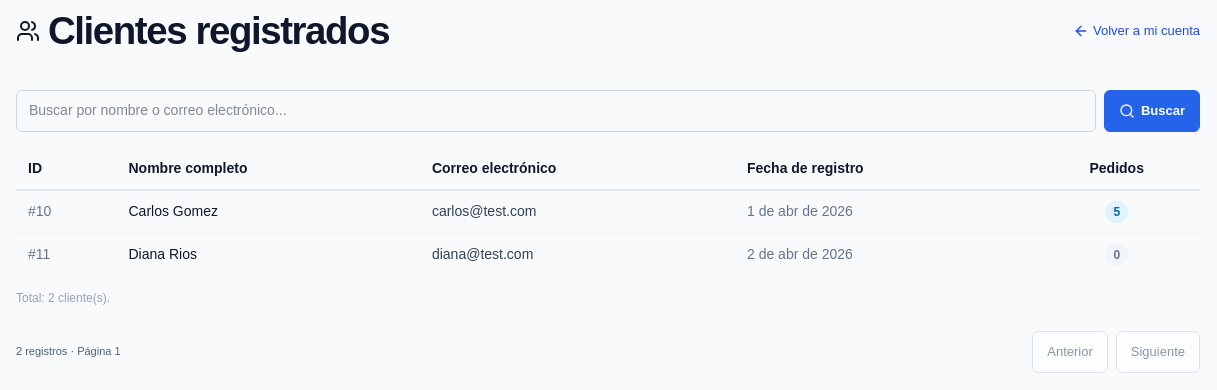
it: Sprint 4 Integrated Acceptance Tests › CO-62 HU-19: Consulta administrativa de clientes › filters customers by search text
Expected: the text "Carlos Gomez" is shown, [116,190,420,233]
Type "Carlos" into the search field named "Buscar cliente" at coordinates (556, 111), box [16,90,1096,132]
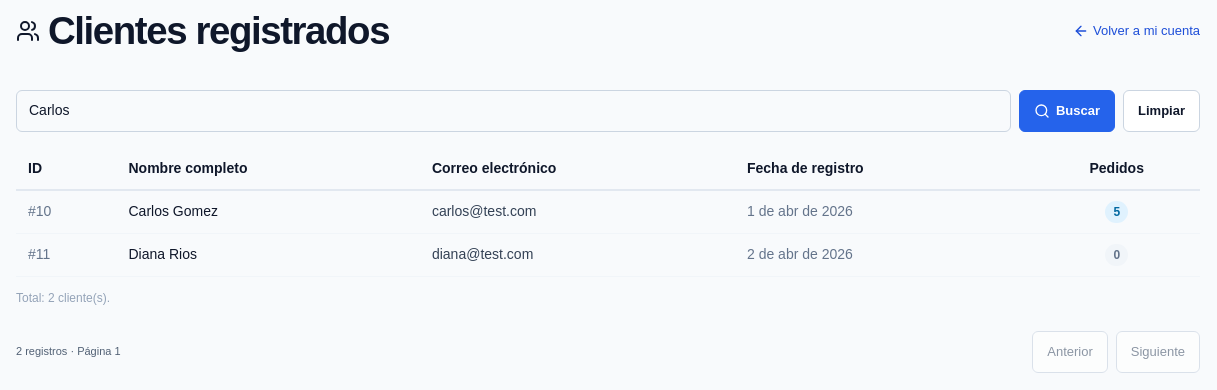
Click the button "Buscar" at coordinates (1067, 111), box [1019,90,1115,132]
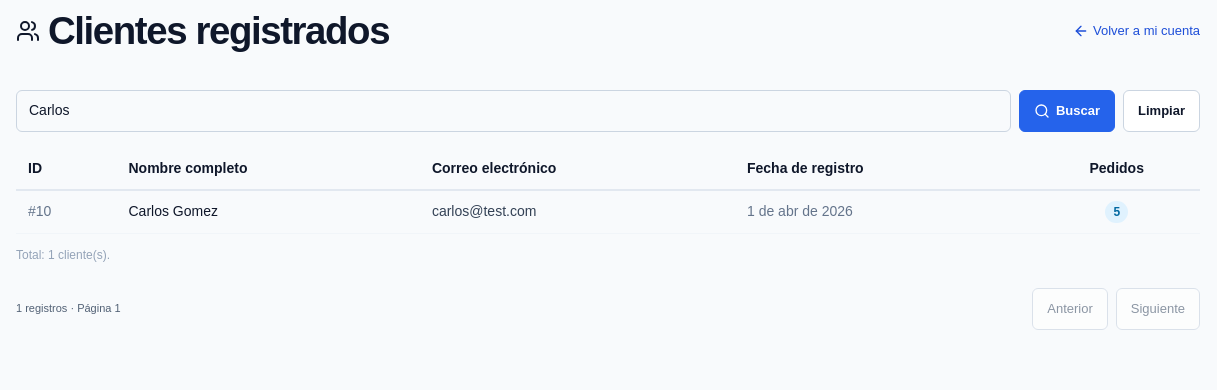
Expected: the text "Carlos Gomez" is shown, [116,190,420,233]
Result: the text "Diana Rios" is gone
